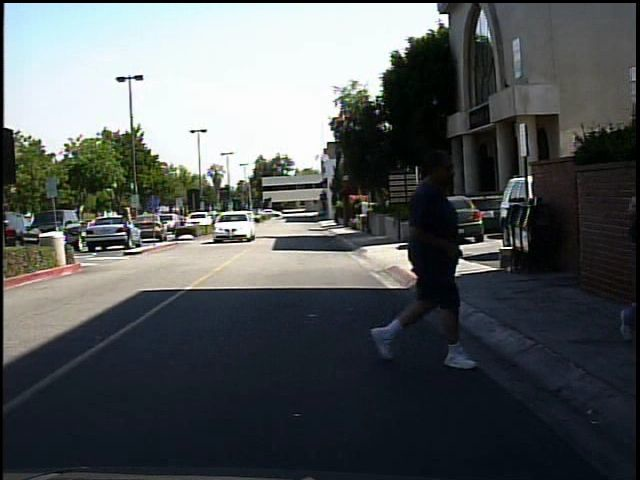person: (378, 138, 484, 375), (116, 203, 139, 254)
